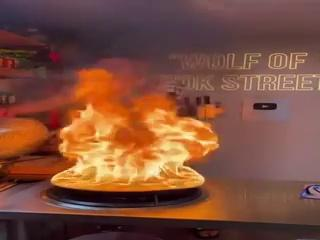Fire: (35, 64, 214, 194)
